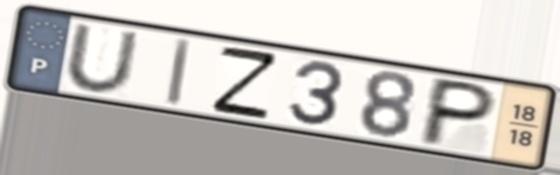3: (286, 59, 347, 128)
8: (358, 69, 420, 141)
I: (163, 35, 195, 110)
P: (414, 75, 502, 149)
U: (62, 21, 143, 97)
Z: (208, 44, 281, 121)
